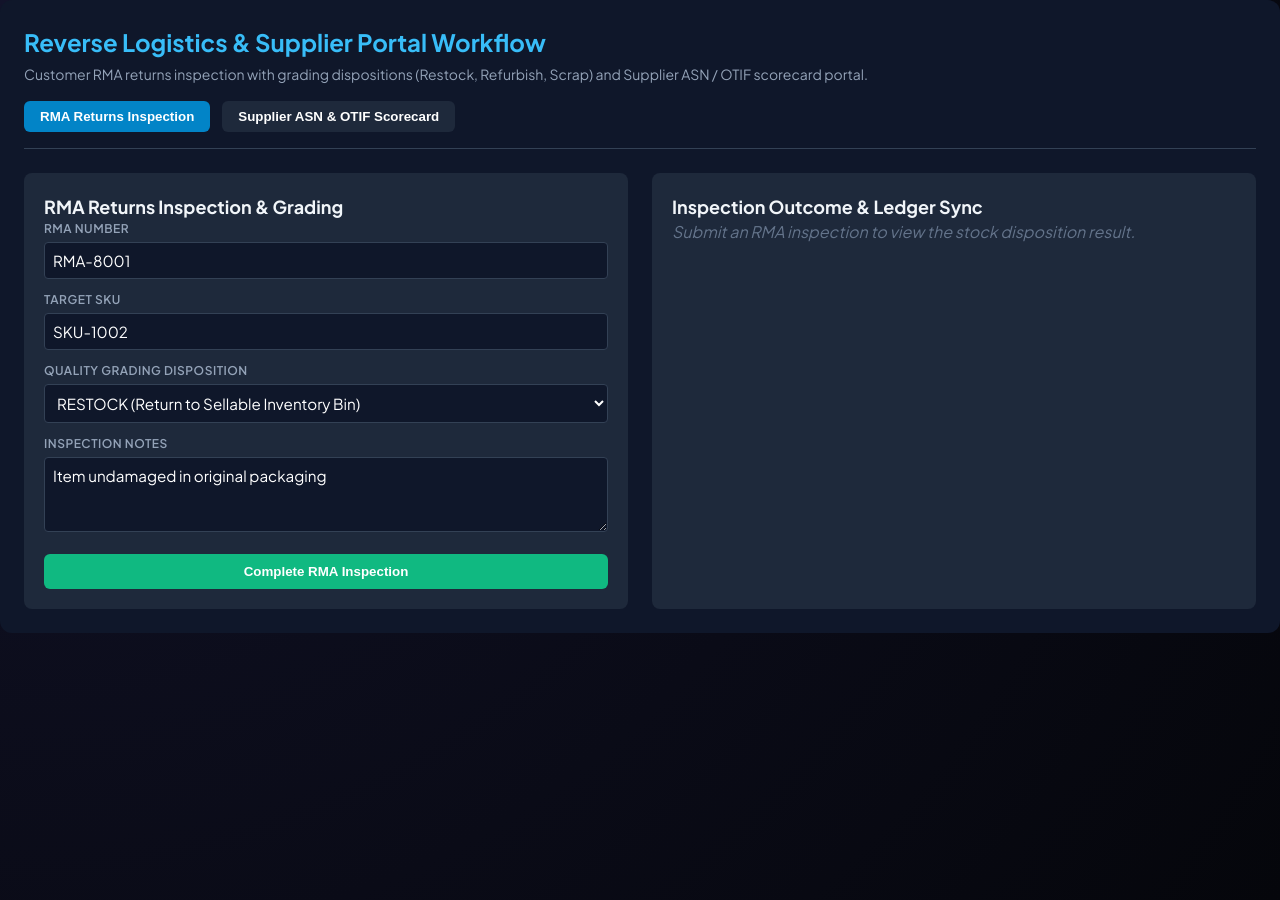
Test: ReverseLogisticsSupplierPanel › switches to supplier tab
Click the button "Supplier ASN & OTIF Scorecard".
click(339, 116)  # box 222,101 -> 455,132
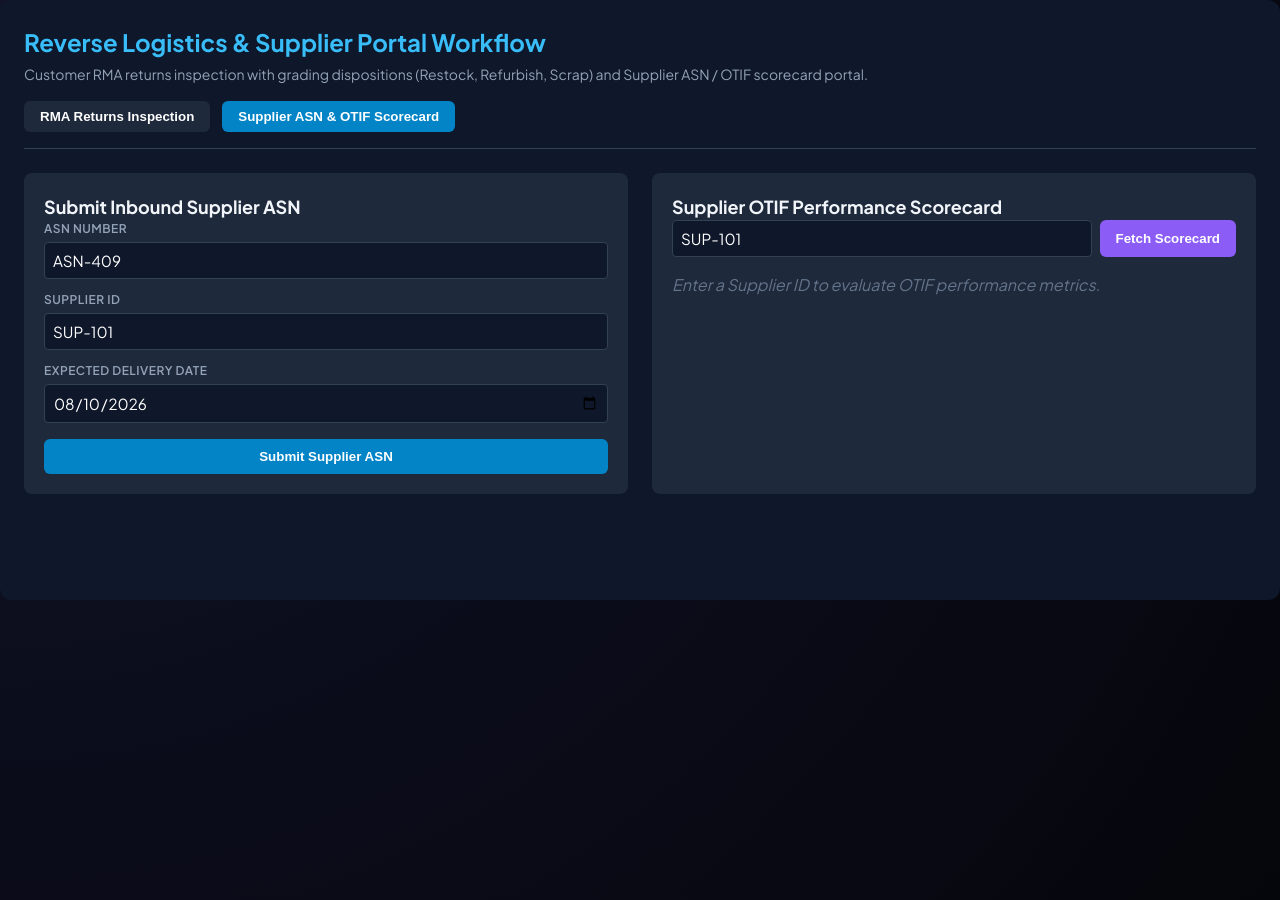
Result: the heading "Submit Inbound Supplier ASN" is shown at 44,195 -> 301,218
Result: the heading "Supplier OTIF Performance Scorecard" is shown at 672,195 -> 1002,218
Result: the heading "RMA Returns Inspection & Grading" is gone
